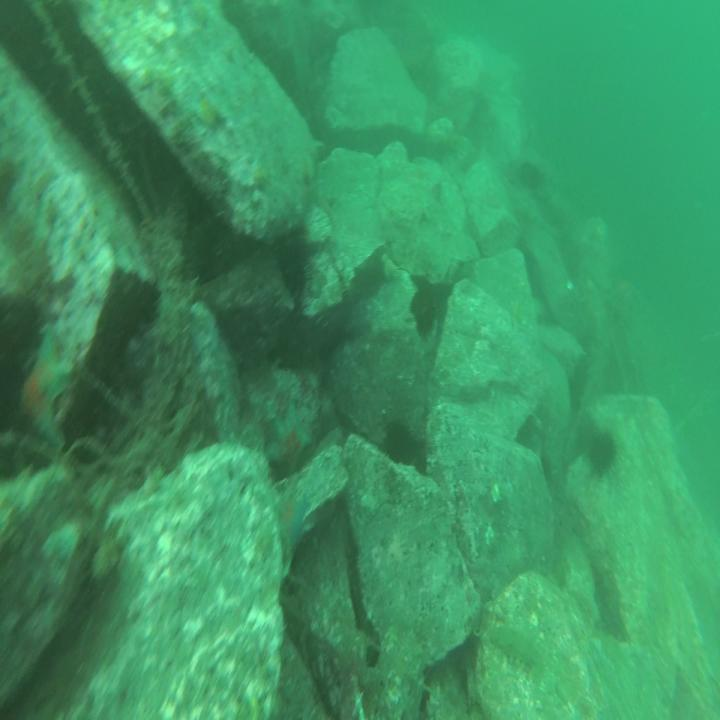echinus: (586, 420, 622, 484)
holothurian: (489, 612, 545, 680)
starfish: (16, 324, 75, 450), (265, 403, 311, 475), (183, 82, 228, 132), (277, 483, 309, 551)
